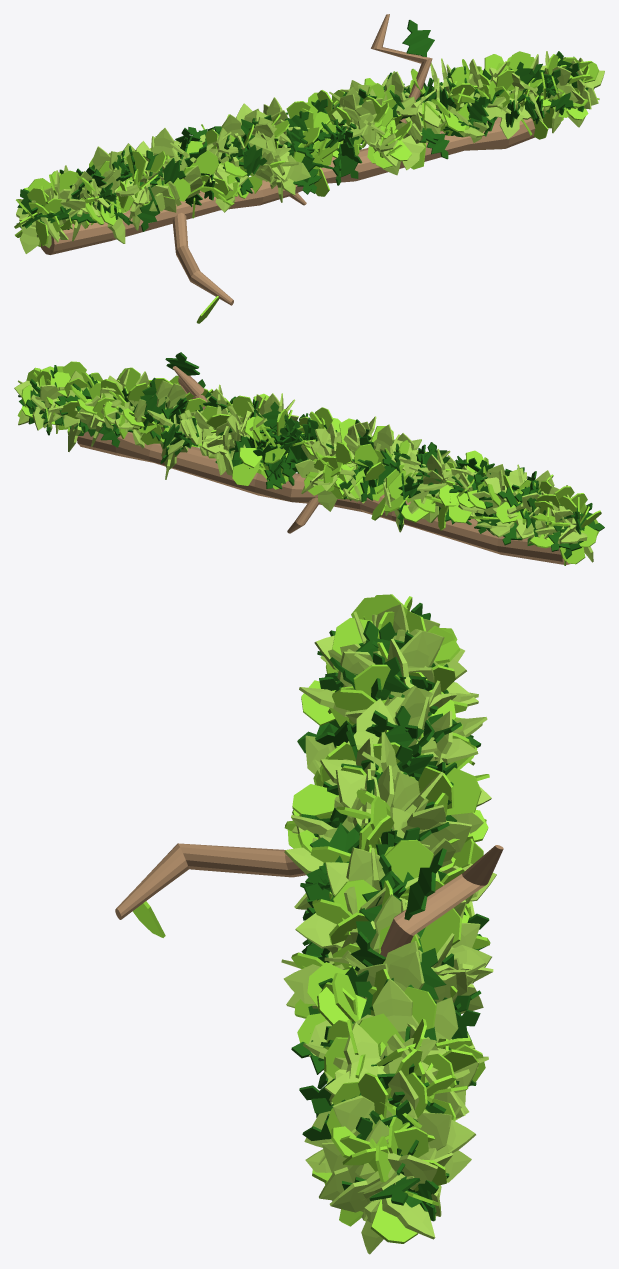
Rendered from Tree_Branch_V2 (1).fbx.
The picture shows the model from 3 angles, top to bottom: view 1: azimuth 30°, elevation 25°; view 2: azimuth 150°, elevation 25°; view 3: azimuth 270°, elevation 25°; orthographic projection. The views are drawn at different scales.
Visible parts, largest first — view 1: Tree_Branch_V2; view 2: Tree_Branch_V2; view 3: Tree_Branch_V2.
Part boxes in pixels (x1,y1,x2,y2): Tree_Branch_V2: [14, 14, 604, 323]; Tree_Branch_V2: [14, 352, 604, 565]; Tree_Branch_V2: [115, 594, 503, 1254].
Size of the model in its own units: 21884 by 6456 by 6319.
